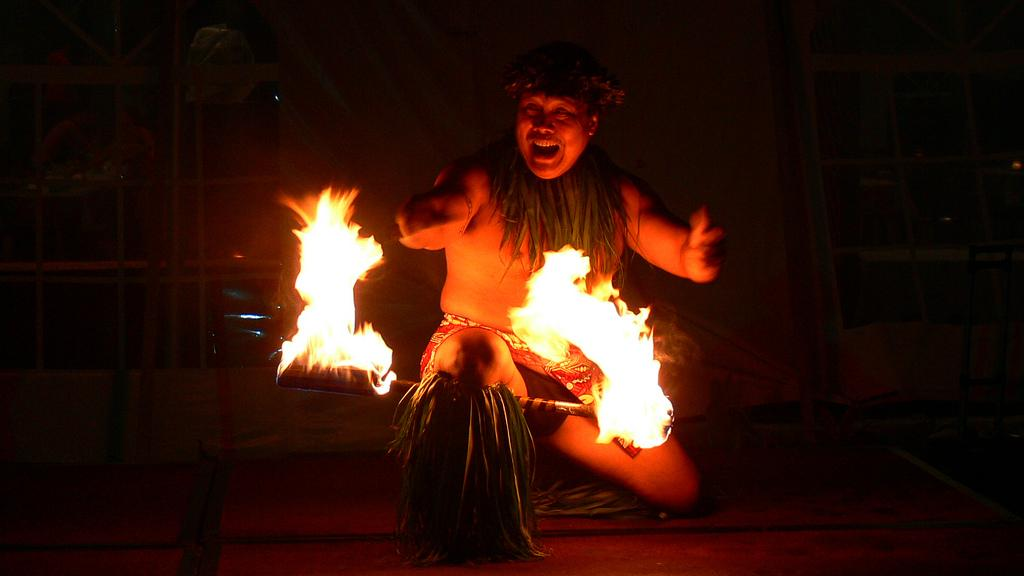fire: (293, 200, 370, 389), (526, 260, 659, 349), (597, 354, 674, 447)
